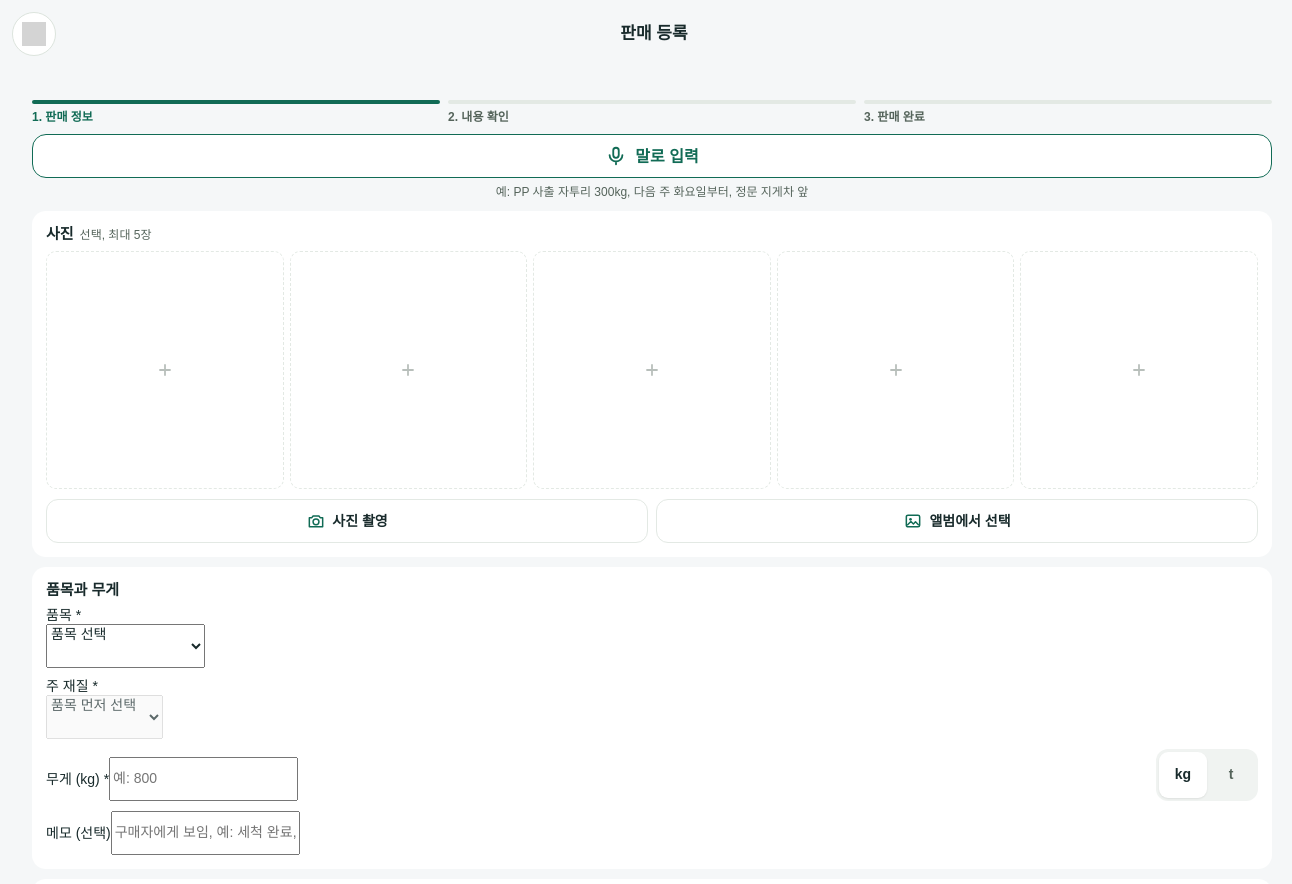
Test case: 말로 입력을 누르면 듣고, 끝나면 에이전트 단계가 보이고 AI가 채운 칸에 표시가 붙는다
The image size is (1292, 884).
Click the button "말로 입력".
click(652, 156)  # box left=32, top=134, right=1272, bottom=178
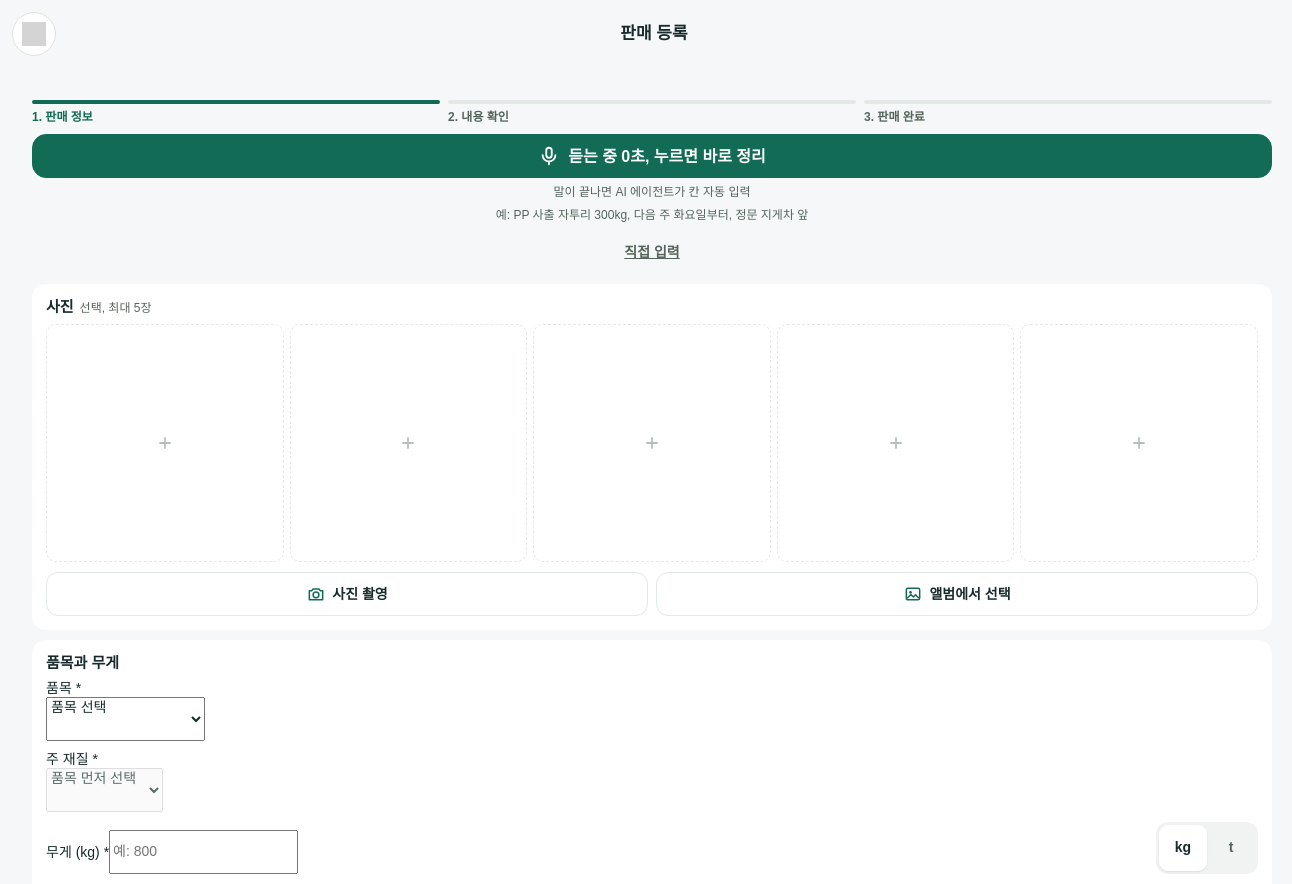
Click the button "듣는 중 0초, 누르면 바로 정리".
click(652, 156)  # box left=32, top=134, right=1272, bottom=178
(page scrolled)
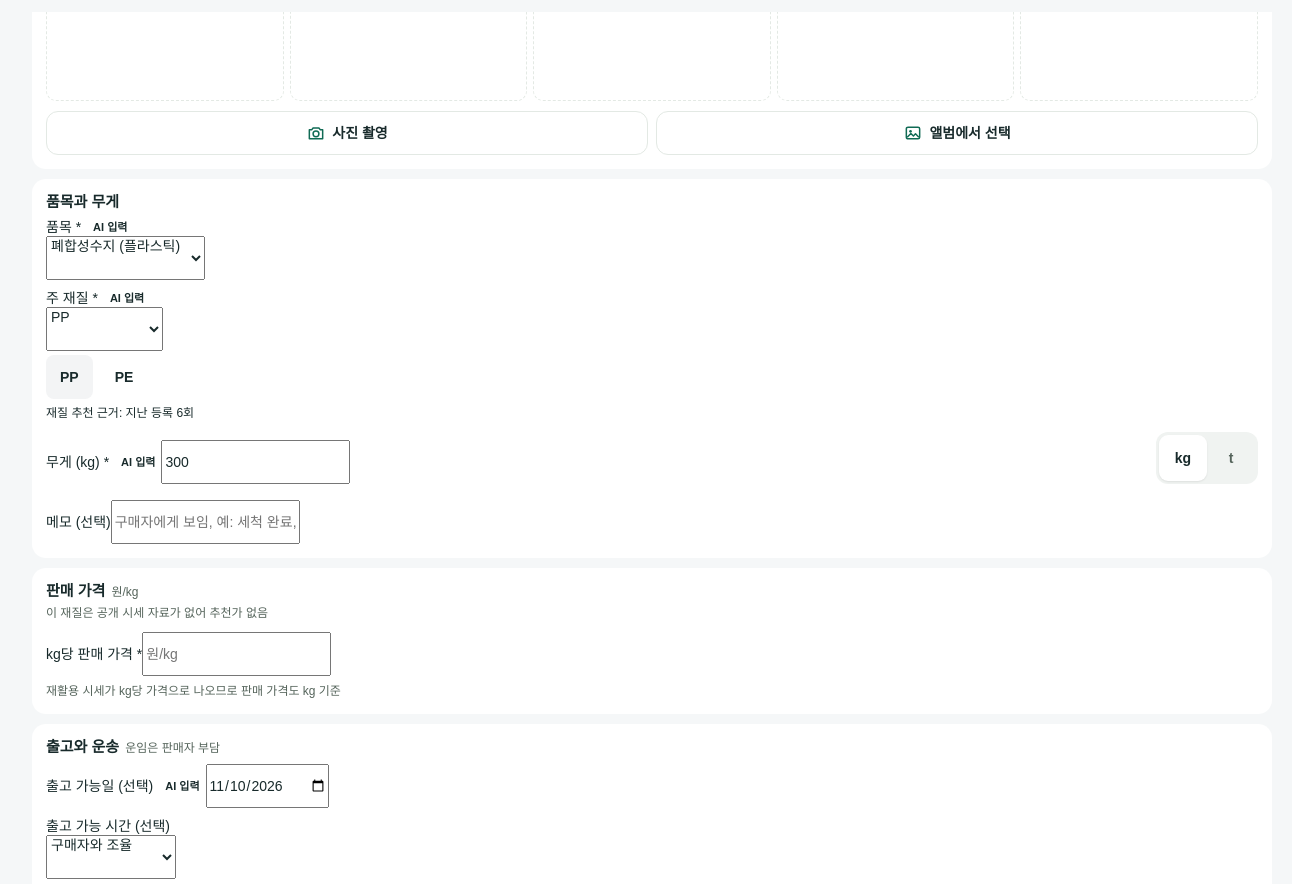
Expected: the field with placeholder "예: 800" holds "300"
Expected: the dropdown labelled "품목 *AI 입력" shows "폐합성수지 (플라스틱)", left=46, top=236, right=205, bottom=280
Expected: the dropdown labelled "주 재질 *AI 입력" shows "PP", left=46, top=307, right=163, bottom=351
Replace the text in the field with placeholder "예: 800" with "280" at (256,462), box left=161, top=440, right=350, bottom=484
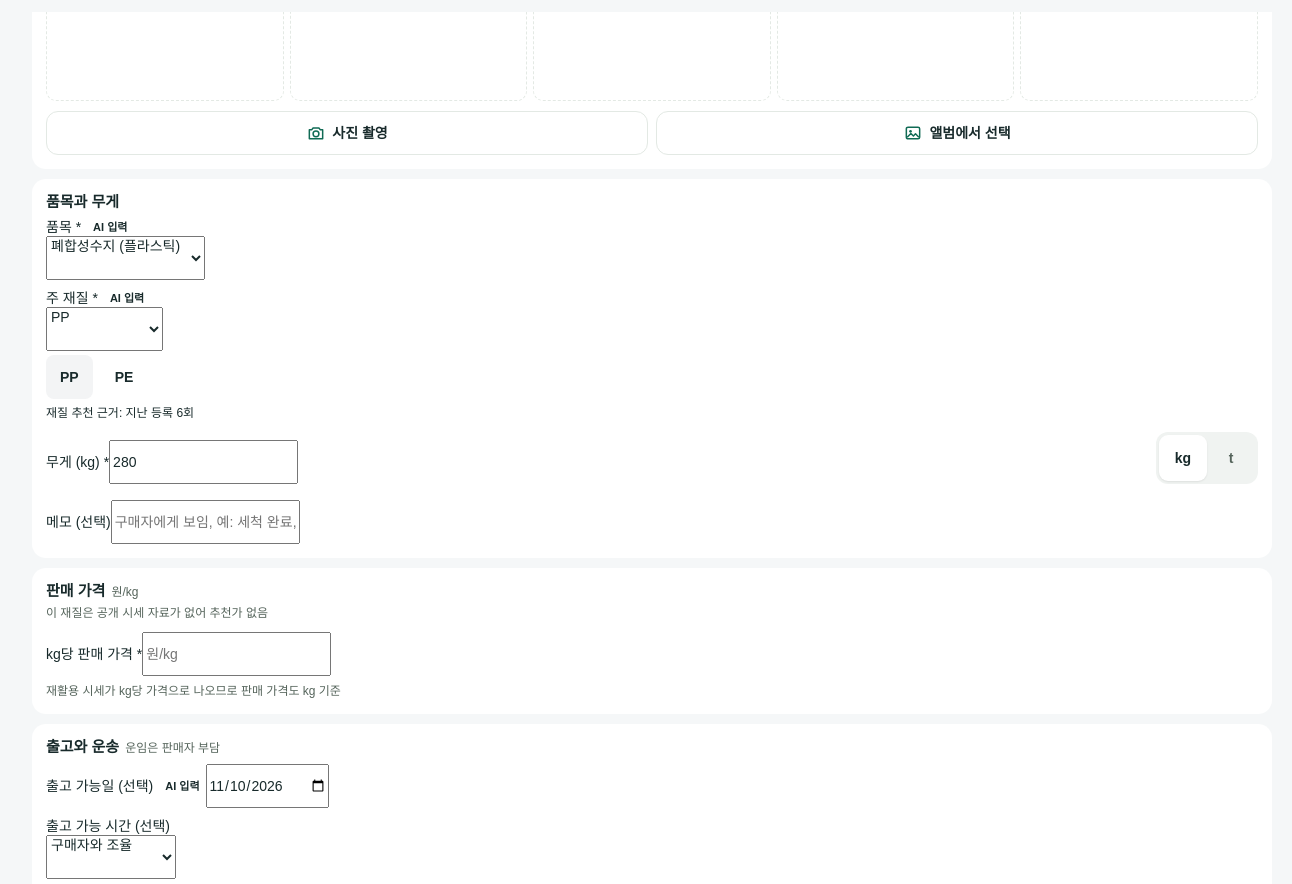
Expected: the text "AI 입력" is shown 4 times
